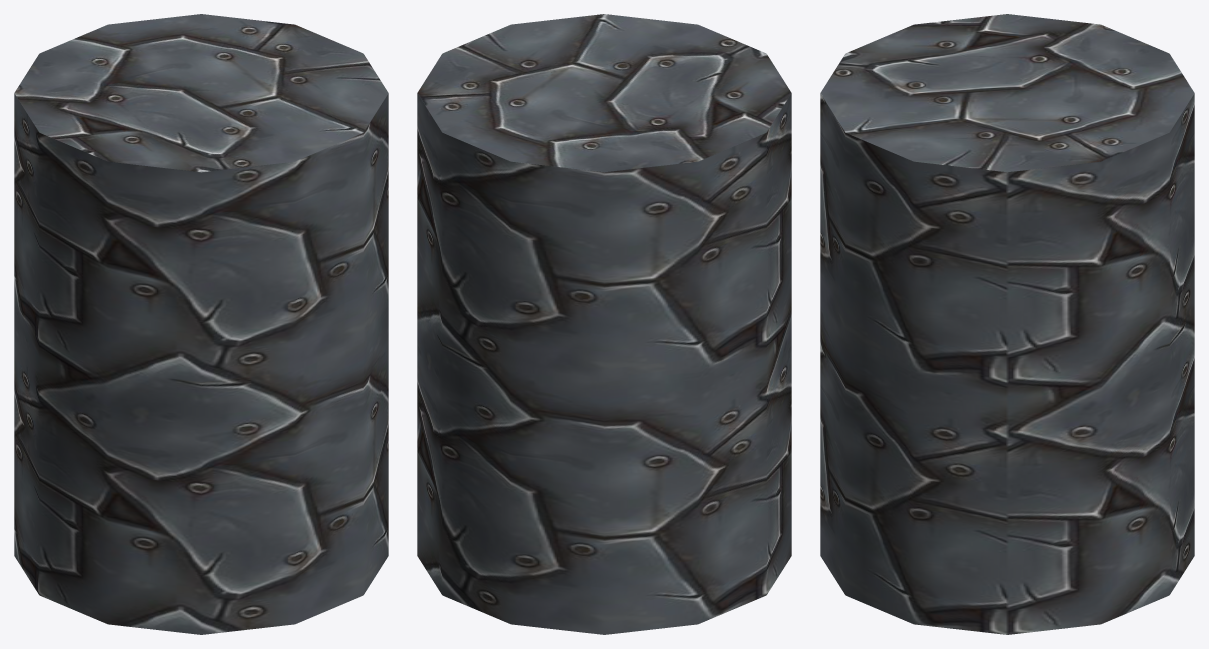
The model's file is PIL0110009.FBX.
The picture shows the model from 3 angles, left to right: view 1: azimuth 30°, elevation 25°; view 2: azimuth 150°, elevation 25°; view 3: azimuth 270°, elevation 25°; orthographic projection.
Parts seen in each view (by area): view 1: smPIL0110009; view 2: smPIL0110009; view 3: smPIL0110009.
Boxes of the visible parts, x1=… form: smPIL0110009: x1=14, y1=14, x2=388, y2=634; smPIL0110009: x1=417, y1=14, x2=791, y2=634; smPIL0110009: x1=820, y1=14, x2=1194, y2=634.
Bounding box in the file's own units: 0.6275 × 0.8557 × 0.6275.
Materials: 1 (1 with a texture image).
